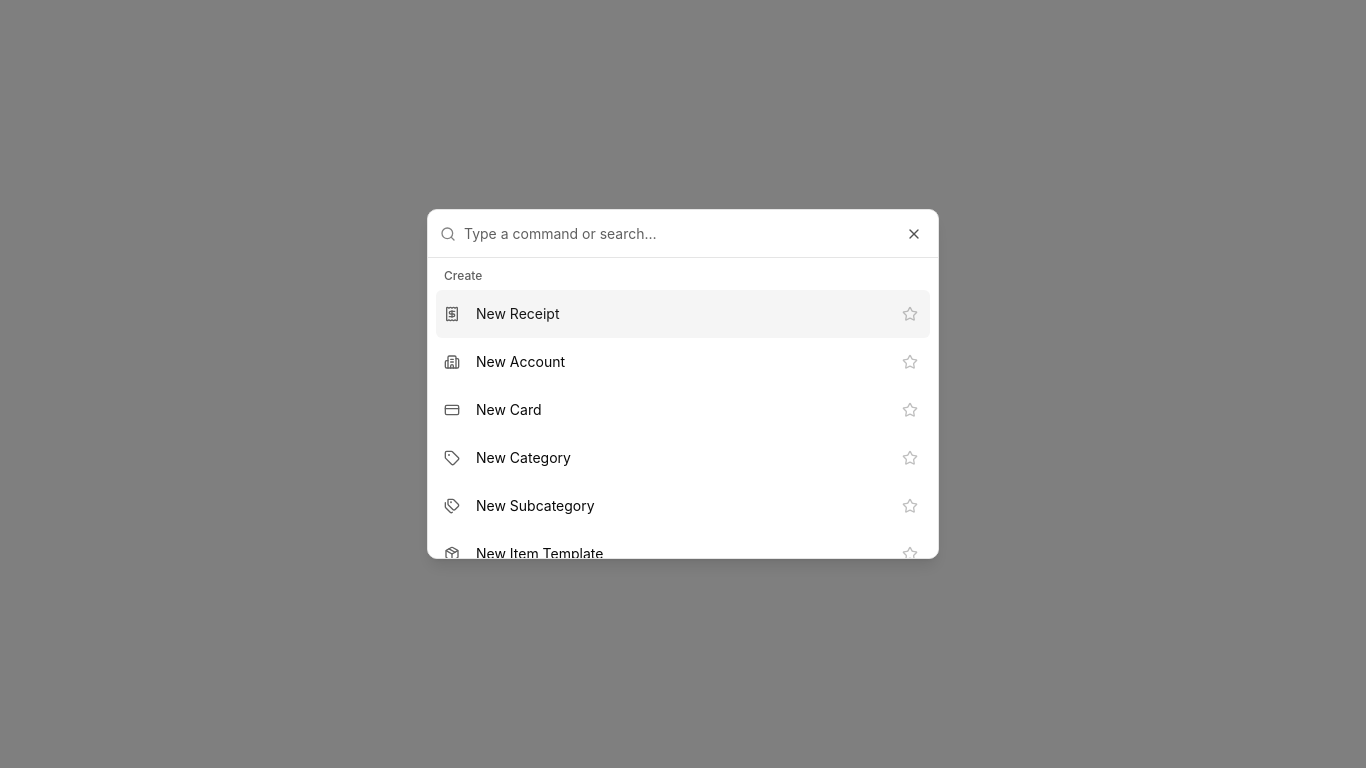
it: CommandPalette › renders entity results when query is typed
Type "apple" into the dropdown with placeholder "Type a command or search…" at x=695, y=234, box [464,210,926,258]
(page scrolled)
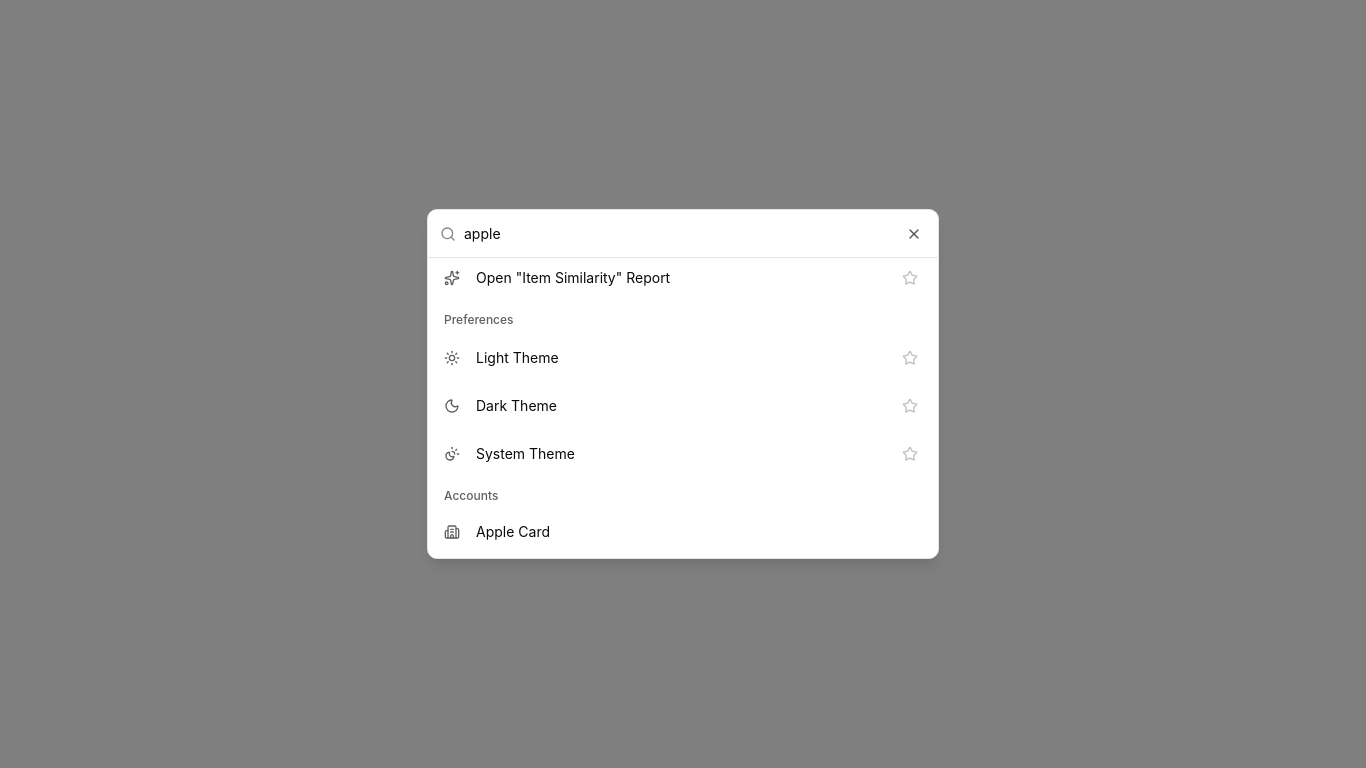
Check: the text "Apple Card" is shown, box [476,522,550,542]
